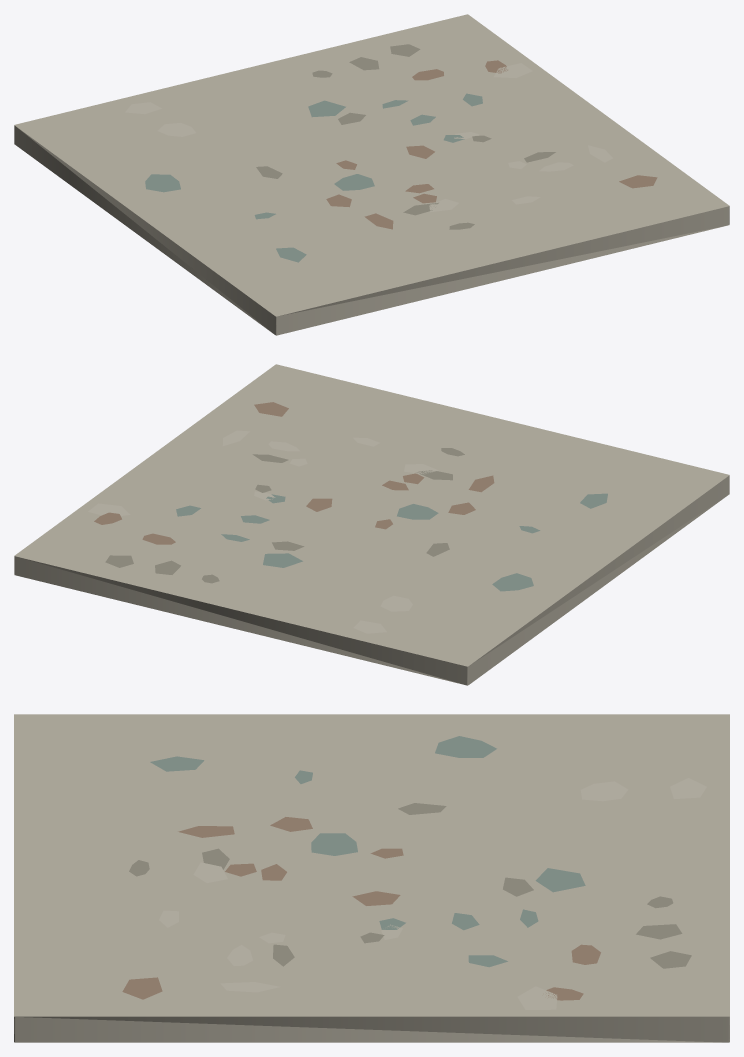
Rendered from town.terrazzo.a.glb.
3 renders of one model, top to bottom at view 1: azimuth 30°, elevation 25°; view 2: azimuth 150°, elevation 25°; view 3: azimuth 270°, elevation 25°, orthographic. The views are drawn at different scales.
Size of the model in its own units: 1 by 0.0404 by 1.
